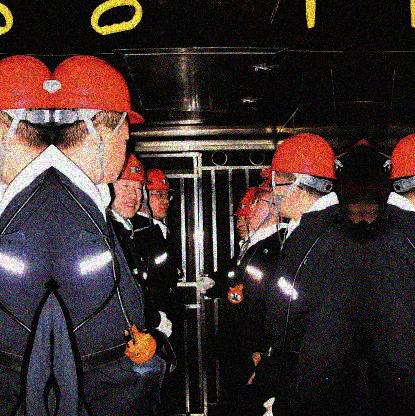helmet: (55, 52, 144, 187), (3, 56, 54, 186), (262, 133, 338, 219), (114, 150, 143, 215), (248, 186, 284, 232), (143, 169, 170, 218), (234, 195, 254, 237)
